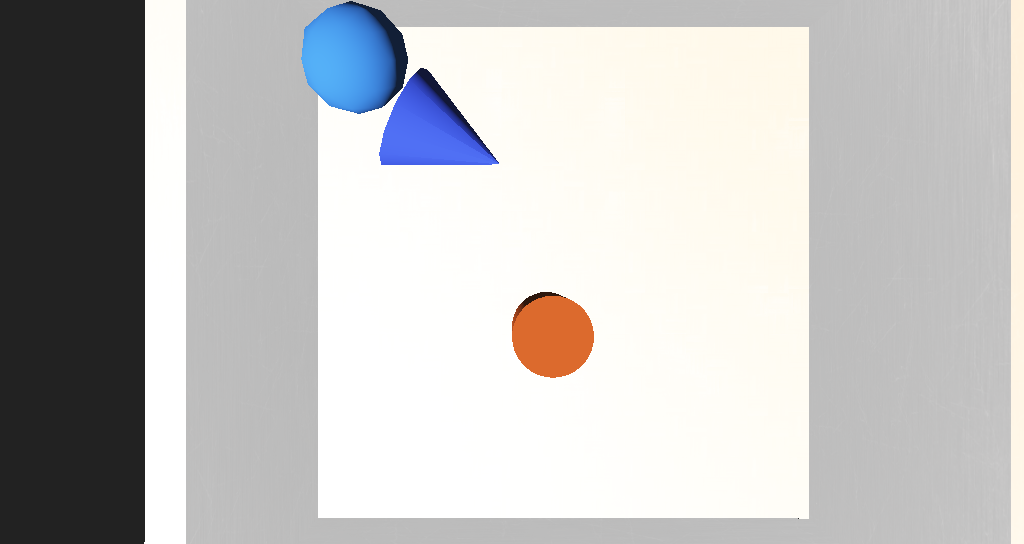cone: (475, 279, 522, 313)
cylinder: (394, 184, 482, 246)
sphere: (354, 160, 414, 203)
